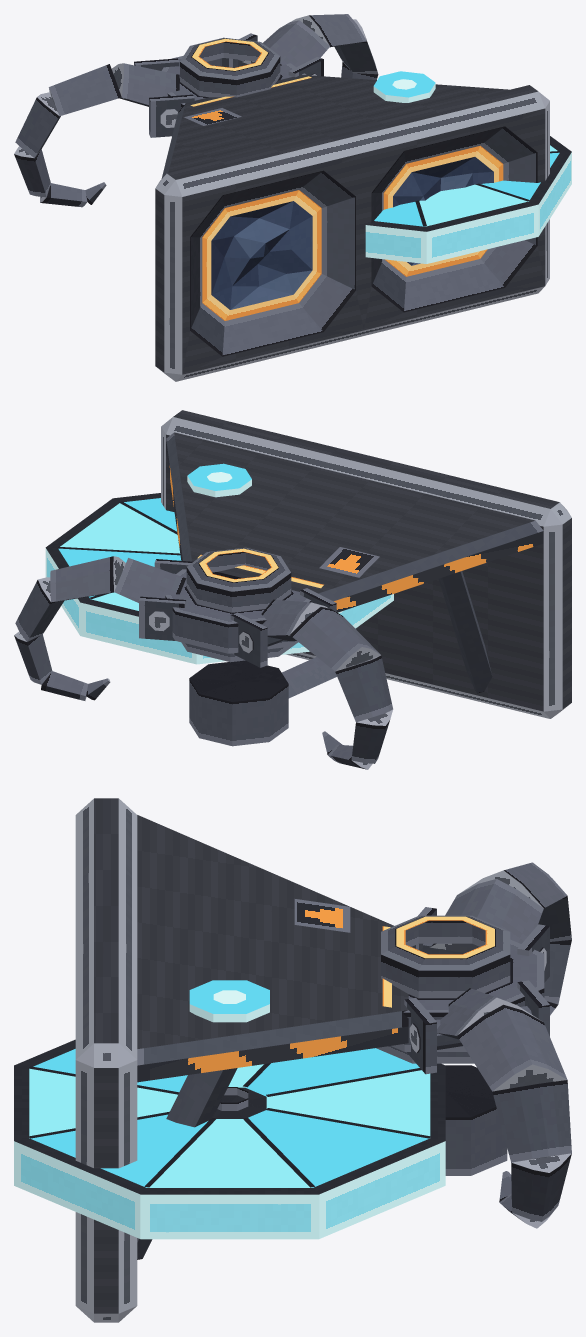
The model's file is marlit_wireless.glb.
The picture shows the model from 3 angles, top to bottom: view 1: azimuth 30°, elevation 25°; view 2: azimuth 150°, elevation 25°; view 3: azimuth 270°, elevation 25°; orthographic projection. The views are drawn at different scales.
Visible parts, largest first — view 1: marlit_wireless_body, marlit_wireless_disc, marlit_wireless_lens; view 2: marlit_wireless_body, marlit_wireless_disc, marlit_wireless_lens; view 3: marlit_wireless_body, marlit_wireless_disc, marlit_wireless_lens.
Part boxes in pixels (bbox=[...]): marlit_wireless_body: bbox=[14, 14, 549, 381]; marlit_wireless_disc: bbox=[365, 136, 571, 263]; marlit_wireless_lens: bbox=[373, 71, 435, 102]; marlit_wireless_body: bbox=[14, 410, 571, 769]; marlit_wireless_disc: bbox=[45, 493, 393, 664]; marlit_wireless_lens: bbox=[187, 463, 251, 497]; marlit_wireless_body: bbox=[75, 798, 571, 1322]; marlit_wireless_disc: bbox=[14, 1039, 445, 1239]; marlit_wireless_lens: bbox=[189, 980, 269, 1022].
Bounding box in the file's own units: 2.2 × 1 × 1.81.
1 material, 1 textured.
